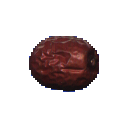gd: (15, 19, 128, 107)
